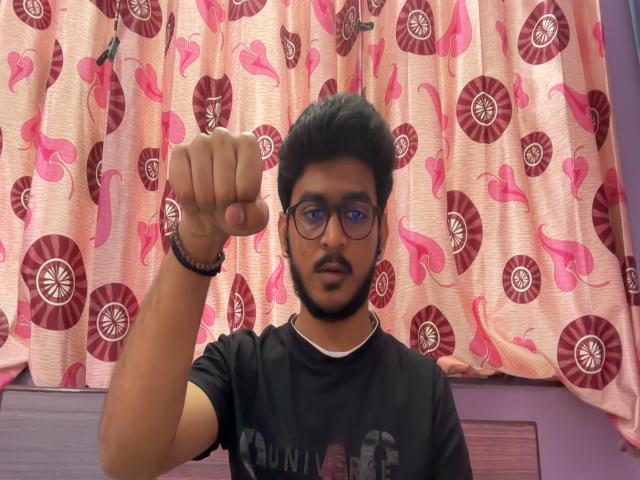Yes: (161, 118, 275, 260)
